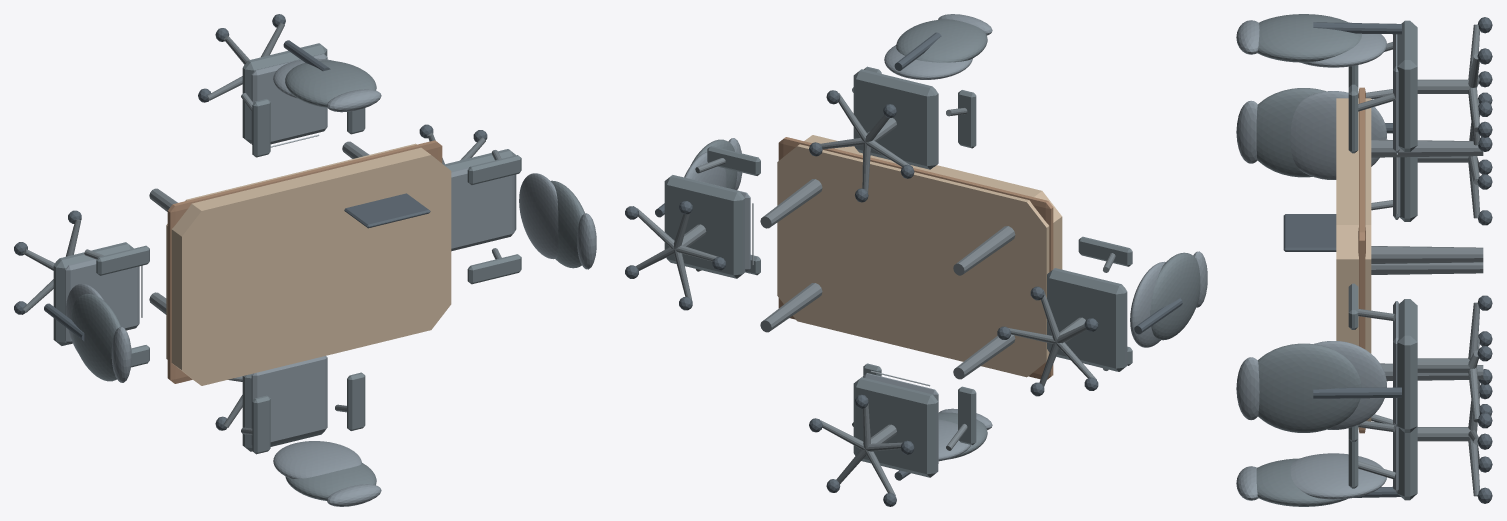
File: prop-meeting.glb
3 renders of one model, left to right at view 1: azimuth 30°, elevation 25°; view 2: azimuth 150°, elevation 25°; view 3: azimuth 270°, elevation 25°, orthographic. The views are drawn at different scales.
Parts seen in each view (by area): view 1: 0000__meeting_oak_top, 0088__cushion_contoured, 0044__cushion_contoured, 0066__cushion_contoured, 0025__backrest_upper, 0022__cushion_contoured, 0001__meeting_edge, 0069__backrest_upper, 0046__lumbar_support, 0090__lumbar_support, 0047__backrest_upper, 0008__laptop_screen (+15 smaller); view 2: 0000__meeting_oak_top, 0021__chair_base_seat, 0065__chair_base_seat, 0087__chair_base_seat, 0043__chair_base_seat, 0025__backrest_upper, 0069__backrest_upper, 0001__meeting_edge, 0024__lumbar_support, 0068__lumbar_support, 0003__meeting_leg, 0005__meeting_leg (+8 smaller); view 3: 0047__backrest_upper, 0000__meeting_oak_top, 0024__lumbar_support, 0069__backrest_upper, 0025__backrest_upper, 0090__lumbar_support, 0043__chair_base_seat, 0065__chair_base_seat, 0046__lumbar_support, 0008__laptop_screen, 0091__backrest_upper, 0005__meeting_leg (+33 smaller).
Part boxes in pixels (x1,y1,x2,y2): 0000__meeting_oak_top: (166,143,451,385); 0088__cushion_contoured: (251,356,327,444); 0044__cushion_contoured: (451,167,514,251); 0066__cushion_contoured: (251,54,327,144); 0025__backrest_upper: (71,294,121,381); 0022__cushion_contoured: (65,259,139,344); 0001__meeting_edge: (167,140,442,383); 0069__backrest_upper: (285,60,376,107); 0046__lumbar_support: (519,173,558,259); 0090__lumbar_support: (273,441,361,478); 0047__backrest_upper: (551,180,584,268); 0008__laptop_screen: (344,193,430,228); 0000__meeting_oak_top: (777,135,1062,377); 0021__chair_base_seat: (1047,268,1127,371); 0065__chair_base_seat: (853,69,938,169); 0087__chair_base_seat: (853,377,938,477); 0043__chair_base_seat: (664,175,744,278); 0025__backrest_upper: (1150,252,1200,340); 0069__backrest_upper: (896,19,987,62); 0001__meeting_edge: (778,137,1053,379); 0024__lumbar_support: (1130,261,1165,347); 0068__lumbar_support: (884,45,972,79); 0003__meeting_leg: (953,226,1015,275); 0005__meeting_leg: (760,179,822,228); 0047__backrest_upper: (1258,343,1361,432); 0000__meeting_oak_top: (1336,98,1371,421); 0024__lumbar_support: (1290,91,1386,179); 0069__backrest_upper: (1257,14,1361,62); 0025__backrest_upper: (1256,88,1325,177); 0090__lumbar_support: (1290,453,1386,499); 0043__chair_base_seat: (1397,299,1417,432); 0065__chair_base_seat: (1397,20,1417,151); 0046__lumbar_support: (1313,341,1386,429); 0008__laptop_screen: (1283,214,1336,251); 0091__backrest_upper: (1256,458,1347,506); 0005__meeting_leg: (1371,246,1483,263).
Size of the model in its own units: 3.11 by 2.55 by 1.25.
